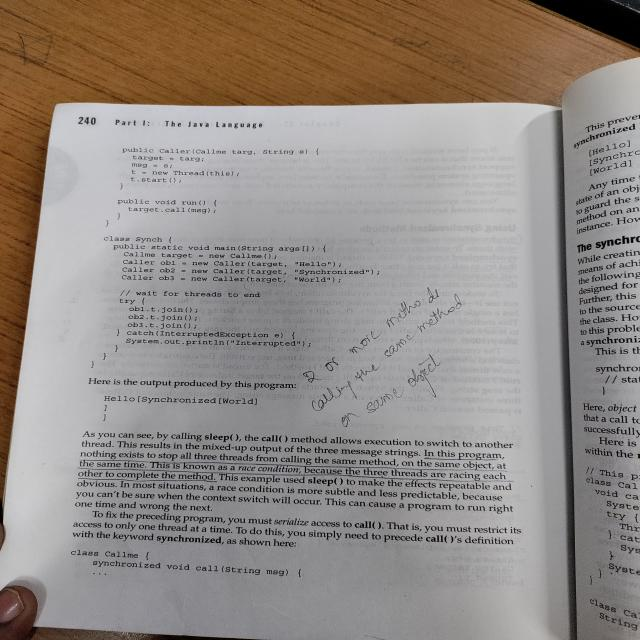paper: (67, 101, 597, 620)
